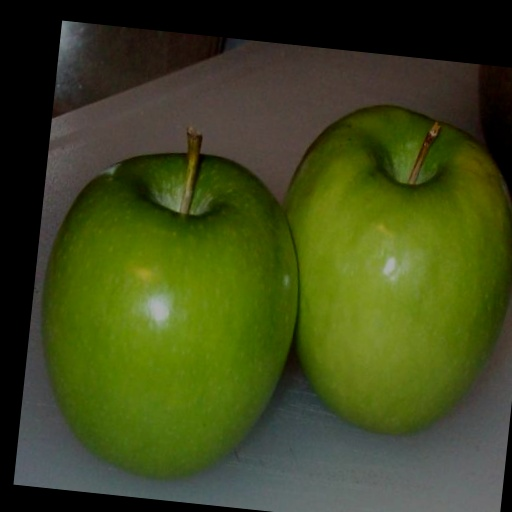fruit: (42, 154, 297, 478), (286, 106, 512, 433)
